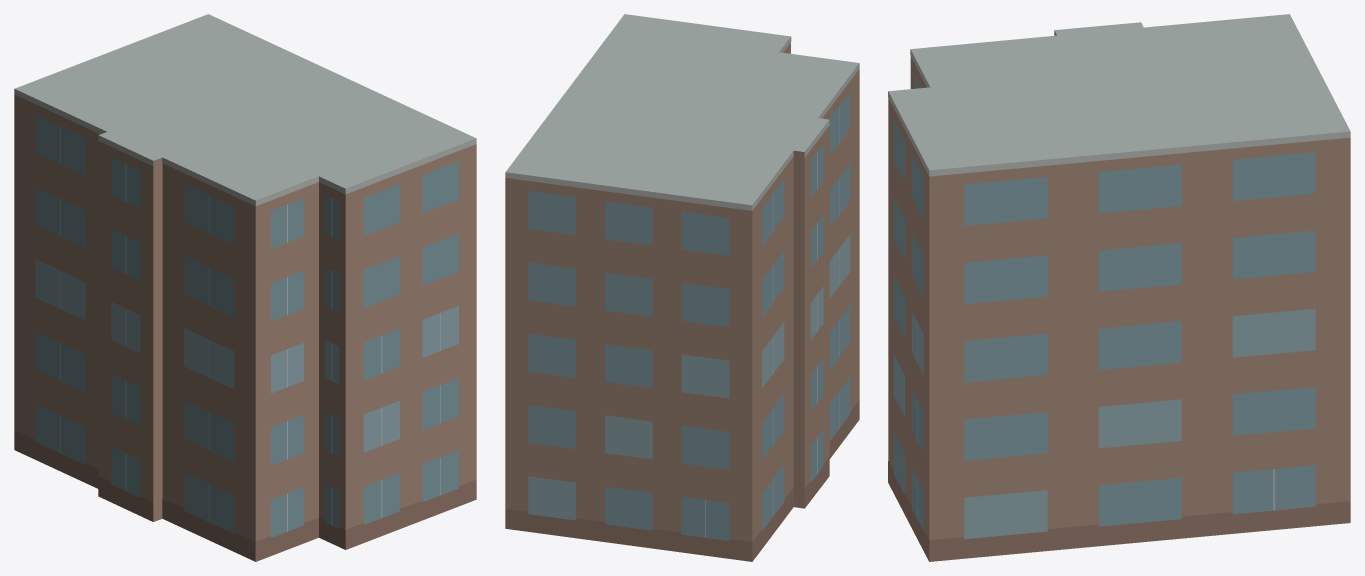
Rendered from survey-upis-33004532.glb.
The picture shows the model from 3 angles, left to right: view 1: azimuth 30°, elevation 25°; view 2: azimuth 150°, elevation 25°; view 3: azimuth 270°, elevation 25°; orthographic projection. The views are drawn at different scales.
Visible parts, largest first — view 1: survey-upis-33004532.tmp; view 2: survey-upis-33004532.tmp; view 3: survey-upis-33004532.tmp.
Part boxes in pixels (box(x1,y1,x2,y2)): survey-upis-33004532.tmp: box(14, 14, 476, 561); survey-upis-33004532.tmp: box(505, 14, 859, 561); survey-upis-33004532.tmp: box(888, 14, 1350, 561).
Bounding box in the file's own units: 13.29 × 15.5 × 16.6.
